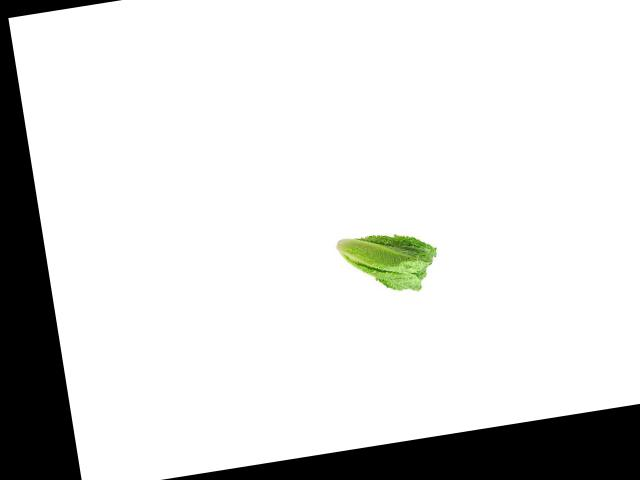lettuce: (326, 223, 442, 304)
